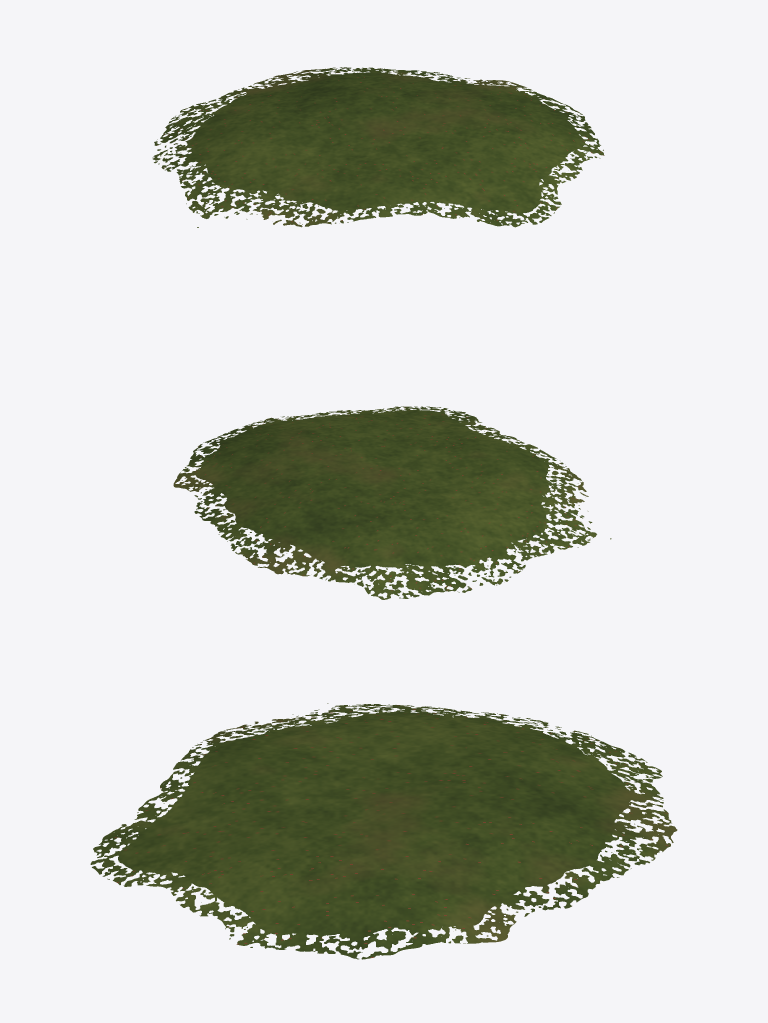
The model's file is mech_1.glb.
3 renders of one model, top to bottom at view 1: azimuth 30°, elevation 25°; view 2: azimuth 150°, elevation 25°; view 3: azimuth 270°, elevation 25°, orthographic. The views are drawn at different scales.
Visible parts, largest first — view 1: mech_1; view 2: mech_1; view 3: mech_1.
Boxes of the visible parts, x1,y1,x2,y2 form: mech_1: (152, 67, 604, 227); mech_1: (173, 406, 611, 599); mech_1: (90, 703, 677, 959).
Size of the model in its own units: 0.35 by 0.0286 by 0.35.
Materials: 1 (1 with a texture image).
